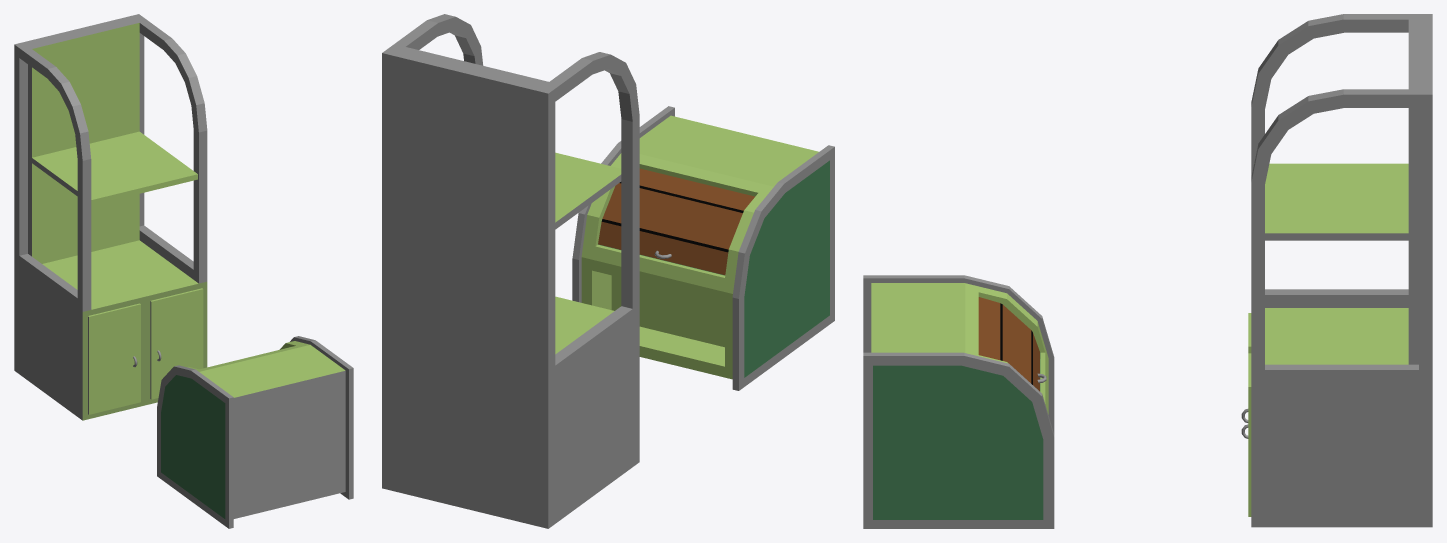
Rendered from Bar_01.fbx.
3 views of the same model, side by side, from view 1: azimuth 30°, elevation 25°; view 2: azimuth 150°, elevation 25°; view 3: azimuth 270°, elevation 25° (orthographic). The views are drawn at different scales.
Parts seen in each view (by area): view 1: Drink shelf, serve table; view 2: Drink shelf, serve table; view 3: Drink shelf, serve table.
Boxes of the visible parts, bbox=[...] form: Drink shelf: bbox=[14, 14, 207, 420]; serve table: bbox=[157, 336, 353, 528]; Drink shelf: bbox=[382, 14, 639, 528]; serve table: bbox=[572, 106, 834, 390]; Drink shelf: bbox=[1241, 14, 1432, 527]; serve table: bbox=[863, 275, 1054, 528].
Size of the model in its own units: 100 by 251 by 298.
